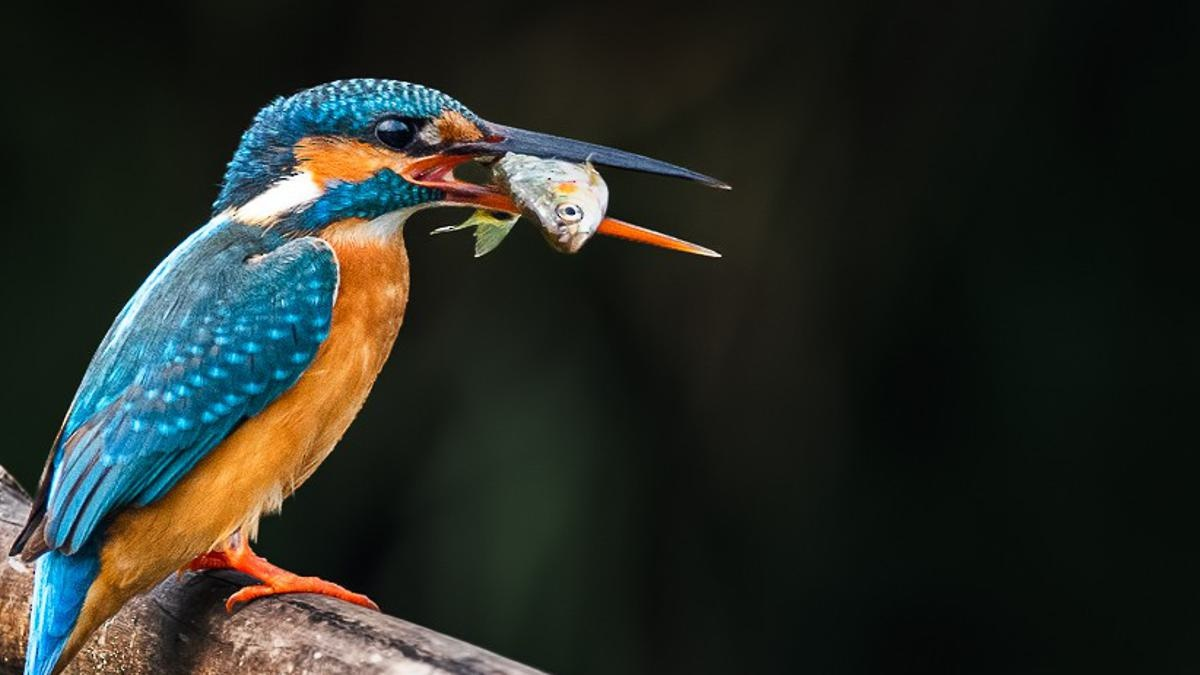kingfisher: (1, 70, 750, 675)
